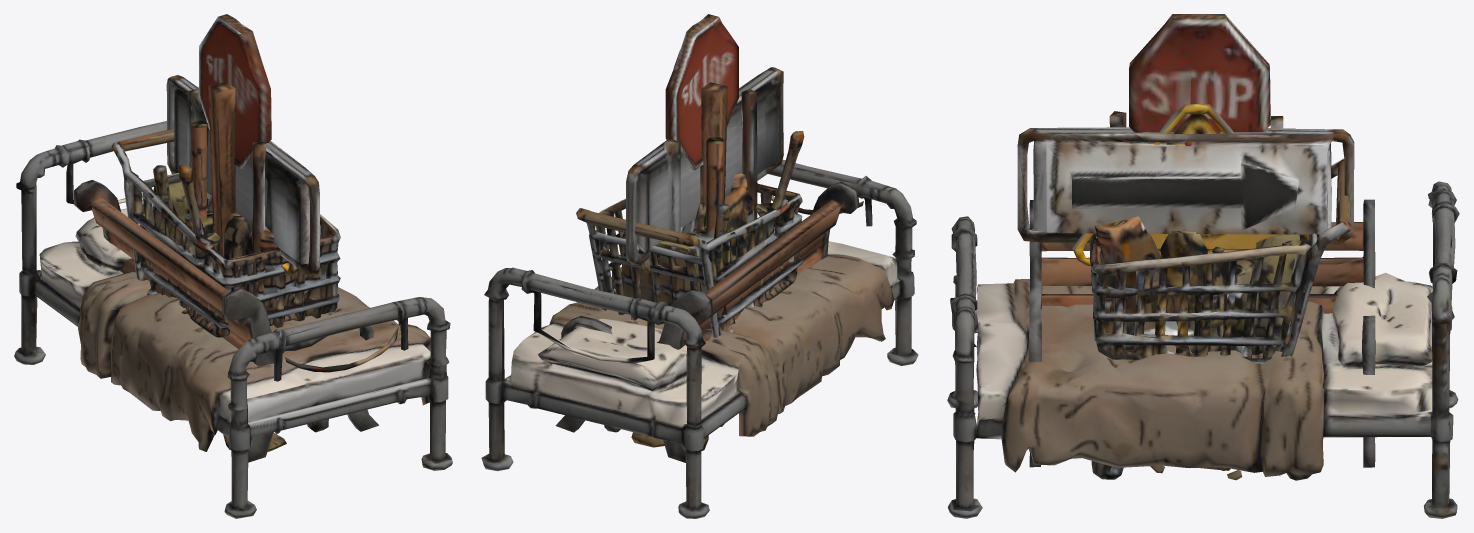
The model's file is bed+frame+3d+model.fbx.
3 views of the same model, side by side, from view 1: azimuth 30°, elevation 25°; view 2: azimuth 150°, elevation 25°; view 3: azimuth 270°, elevation 25° (orthographic). The views are drawn at different scales.
Visible parts, largest first — view 1: bed, carrito, letrero1, bech, letrero, letrero2; view 2: bed, carrito, letrero1, bech, letrero, letrero2; view 3: bed, letrero1, carrito, letrero, bech, letrero2.
Part boxes in pixels (<box>): bed: <box>14,121,452,518</box>; carrito: <box>111,120,340,449</box>; letrero1: <box>166,75,319,451</box>; bech: <box>74,180,378,462</box>; letrero: <box>198,14,271,168</box>; letrero2: <box>207,82,296,278</box>; bed: <box>481,159,918,518</box>; carrito: <box>576,131,804,450</box>; letrero1: <box>626,67,783,447</box>; bech: <box>555,181,859,462</box>; letrero: <box>665,14,738,234</box>; letrero2: <box>642,82,727,426</box>; bed: <box>947,181,1459,518</box>; letrero1: <box>1017,111,1354,244</box>; carrito: <box>1090,158,1350,480</box>; letrero: <box>1129,14,1270,473</box>; bech: <box>1029,199,1375,467</box>; letrero2: <box>1072,104,1308,480</box>.
Size of the model in its own units: 22.71 by 37.52 by 38.79.
